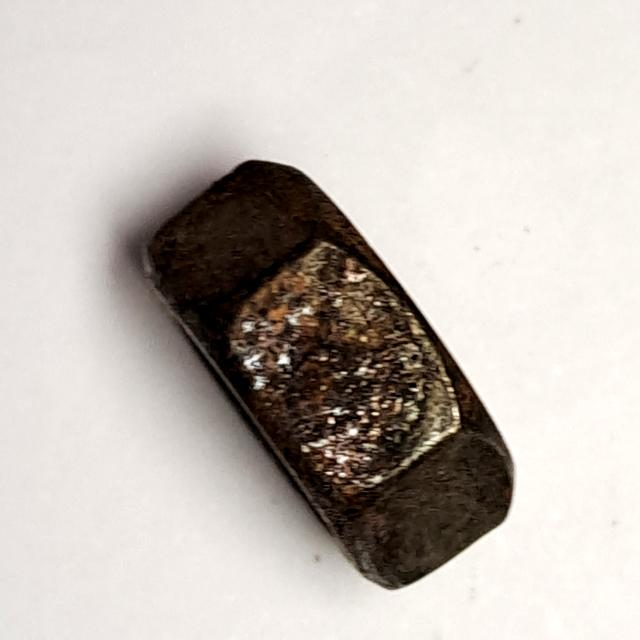Side_Rust: (117, 134, 542, 612)
